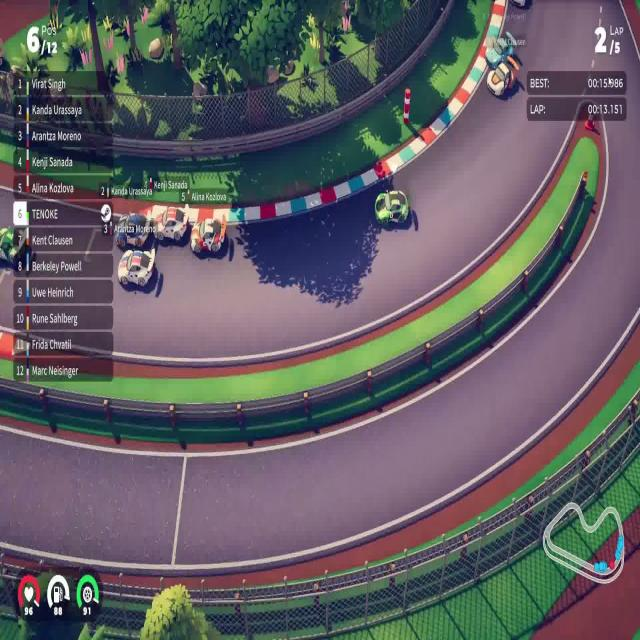car: (117, 245, 156, 289), (189, 213, 227, 256), (153, 204, 189, 246), (486, 54, 518, 98), (114, 211, 150, 250), (374, 188, 410, 226), (486, 36, 516, 64)
